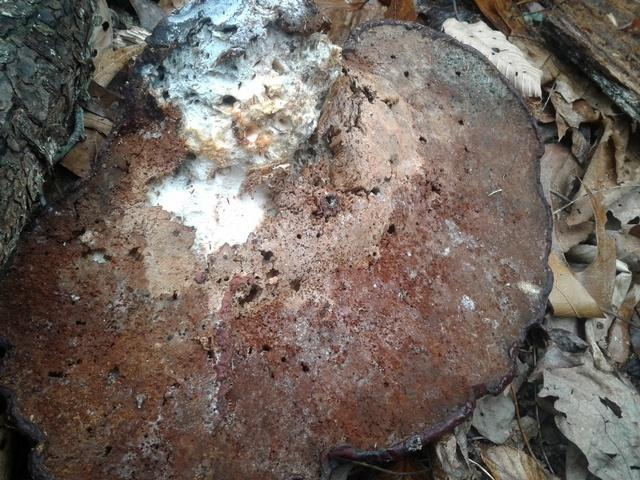Non-edible Mushroom: (1, 6, 556, 479)
